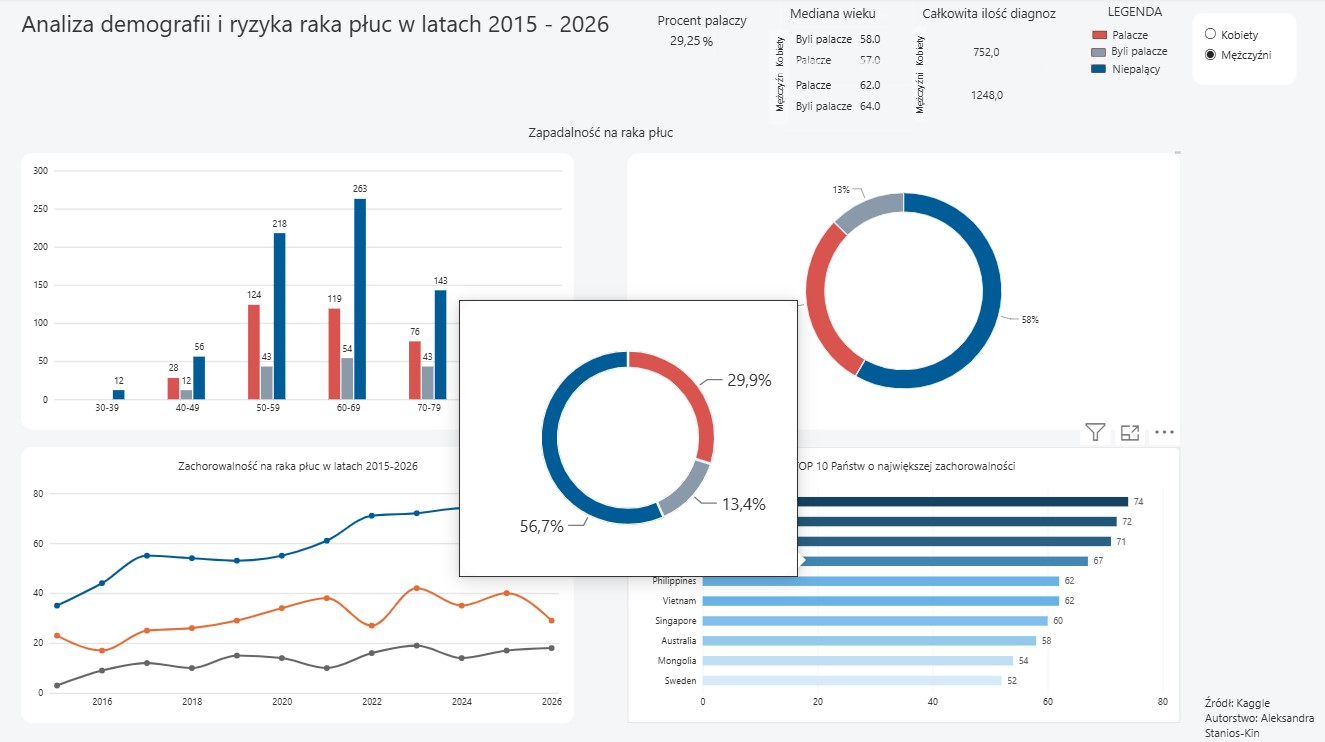

Layout of this report page (visuals, bound fields, positions):
{"tool":"powerbi","page":{"name":"Dashboard","canvas":[1920,1080],"ordinal":0},"visuals":[{"type":"textbox","title":"Analiza demografii i ryzyka raka płuc w latach 2015 - 2026","box":[30.8,14.5,877.7,54.3],"z":0},{"type":"tableEx","title":"Mediana wieku diagnozy","fields":{"Values":["mediana.Column1","mediana.Column3"]},"box":[1128.8,0,192.5,128.8],"z":1000},{"type":"tableEx","title":"Mediana wieku diagnozy - mężczyźni","fields":{"Values":["mediana.Column1","mediana.Column3"]},"box":[1128.8,68.8,192.5,125],"z":2000},{"type":"cardVisual","fields":{"Data":["płuca all.całkowita ilość diagnoz"],"Rows":["płuca all.gender"]},"box":[1321.2,41.2,196.7,73.3],"z":3000},{"type":"textbox","box":[14,632.5,317,161],"z":4000},{"type":"shape","box":[1113.8,88.8,28.8,96.2],"z":5000},{"type":"shape","box":[1112.5,47.5,30,63.8],"z":6000},{"type":"textbox","title":"Mediana wieku diagnozy","box":[1143.2,10,124.9,21.7],"z":7000},{"type":"textbox","title":"Całkowita ilość diagnoz","box":[1335,10,222.5,25],"z":8000},{"type":"cardVisual","fields":{"Data":["płuca all.całkowita ilość diagnoz"],"Rows":["płuca all.gender"]},"box":[1321.2,98.8,198.8,81.2],"z":9000},{"type":"cardVisual","fields":{"Data":["płuca all.Procent palaczy"]},"box":[960,35,76.2,53.8],"z":10000},{"type":"textbox","title":"Źródł: Kaggle","box":[1744,1010,136,22],"z":11000},{"type":"clusteredColumnChart","title":"Zapadalność na raka płuc","fields":{"Category":["Analiza czy więcej mężczyzn czy kobiet zachorowało.age_group"],"Series":["Analiza czy więcej mężczyzn czy kobiet zachorowało.smoking_status"],"Y":["Sum(Analiza czy więcej mężczyzn czy kobiet zachorowało.total_patient)"]},"box":[30,226,800,400],"z":12000},{"type":"donutChart","fields":{"Category":["Analiza czy więcej mężczyzn czy kobiet zachorowało.smoking_status"],"Y":["Sum(Analiza czy więcej mężczyzn czy kobiet zachorowało.total_patient)"]},"box":[908,226,800,400],"z":13000},{"type":"textbox","title":"Zapadalność na raka płuc","box":[30,182,1678,44],"z":14000},{"type":"shape","box":[1581.4,49.1,21.1,12.2],"z":15000},{"type":"textbox","title":"Palacze","box":[1610,42.9,168.6,34.3],"z":17000},{"type":"shape","box":[1580.5,73.6,21.1,12.2],"z":18000},{"type":"textbox","title":"Byli palacze","box":[1609.5,67.2,167.8,34.4],"z":19000},{"type":"shape","box":[1580.4,98,21.1,12.2],"z":20000},{"type":"textbox","title":"Niepalący","box":[1610,91.7,167.1,34.3],"z":21000},{"type":"textbox","title":"LEGENDA","box":[1581.4,7.1,123,34],"z":22000},{"type":"lineChart","title":"Zachorowalność na raka płuc w latach 2015-2026 ","fields":{"Category":["zachorowalnosc 2015 2026.diagnosis_year"],"Series":["zachorowalnosc 2015 2026.smoking_status"],"Y":["Sum(zachorowalnosc 2015 2026.count)"]},"box":[30,652,800,400],"z":23000},{"type":"listSlicer","fields":{"Values":["Słownik_Plec.Płeć Słownik"]},"box":[1727.1,22.9,150,102.9],"z":24000},{"type":"clusteredBarChart","title":"TOP 10 Państw o największej zachorowalności","fields":{"Category":["płuca all.country"],"Y":["płuca all.całkowita ilość diagnoz"]},"box":[908,652,800,400],"z":25000},{"type":"textbox","title":"%","box":[1016.2,50,40,40],"z":26000},{"type":"textbox","title":"Procent palaczy","box":[951.2,20,135,40],"z":26001},{"type":"textbox","title":"Autorstwo: Aleksandra Stanios-Kin","box":[1744,1032,176,42],"z":26002}]}

Visuals, with their boxes in screenshot pixels (x1, y1, x2, y2), scaled from the page's 1920x1080 canvas onto the 1325x742 screenshot:
"Analiza demografii i ryzyka raka płuc w latach 2015 - 2026" textbox: bbox(21, 10, 627, 47)
"Mediana wieku diagnozy" tableEx: bbox(779, 0, 912, 88)
"Mediana wieku diagnozy - mężczyźni" tableEx: bbox(779, 47, 912, 133)
cardVisual - płuca all.całkowita ilość diagnoz x płuca all.gender: bbox(912, 28, 1048, 79)
textbox: bbox(10, 435, 228, 545)
shape: bbox(769, 61, 789, 127)
shape: bbox(768, 33, 788, 76)
"Mediana wieku diagnozy" textbox: bbox(789, 7, 875, 22)
"Całkowita ilość diagnoz" textbox: bbox(921, 7, 1075, 24)
cardVisual - płuca all.całkowita ilość diagnoz x płuca all.gender: bbox(912, 68, 1049, 124)
cardVisual - płuca all.Procent palaczy: bbox(662, 24, 715, 61)
"Źródł: Kaggle" textbox: bbox(1204, 694, 1297, 709)
"Zapadalność na raka płuc" clusteredColumnChart: bbox(21, 155, 573, 430)
donutChart - Analiza czy więcej mężczyzn czy kobiet zachorowało.smoking_status x Sum(Analiza czy więcej mężczyzn czy kobiet zachorowało.total_patient): bbox(627, 155, 1179, 430)
"Zapadalność na raka płuc" textbox: bbox(21, 125, 1179, 155)
shape: bbox(1091, 34, 1106, 42)
"Palacze" textbox: bbox(1111, 29, 1227, 53)
shape: bbox(1091, 51, 1105, 59)
"Byli palacze" textbox: bbox(1111, 46, 1227, 70)
shape: bbox(1091, 67, 1105, 76)
"Niepalący" textbox: bbox(1111, 63, 1226, 87)
"LEGENDA" textbox: bbox(1091, 5, 1176, 28)
"Zachorowalność na raka płuc w latach 2015-2026 " lineChart: bbox(21, 448, 573, 723)
listSlicer - Słownik_Plec.Płeć Słownik: bbox(1192, 16, 1295, 86)
"TOP 10 Państw o największej zachorowalności" clusteredBarChart: bbox(627, 448, 1179, 723)
"%" textbox: bbox(701, 34, 729, 62)
"Procent palaczy" textbox: bbox(656, 14, 750, 41)
"Autorstwo: Aleksandra Stanios-Kin" textbox: bbox(1204, 709, 1324, 738)
